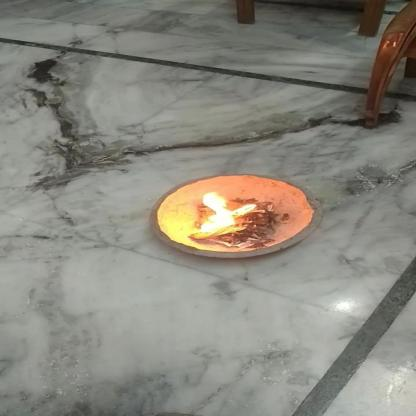fire: (193, 190, 261, 238)
